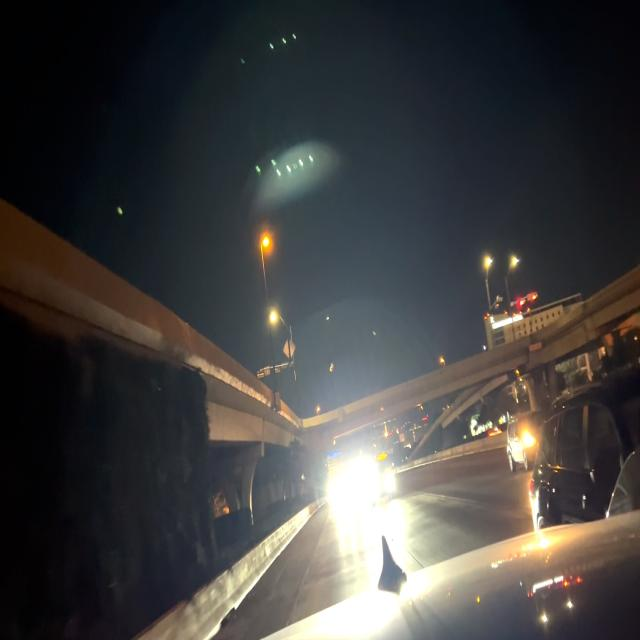back-of-sign: (283, 339, 295, 360)
